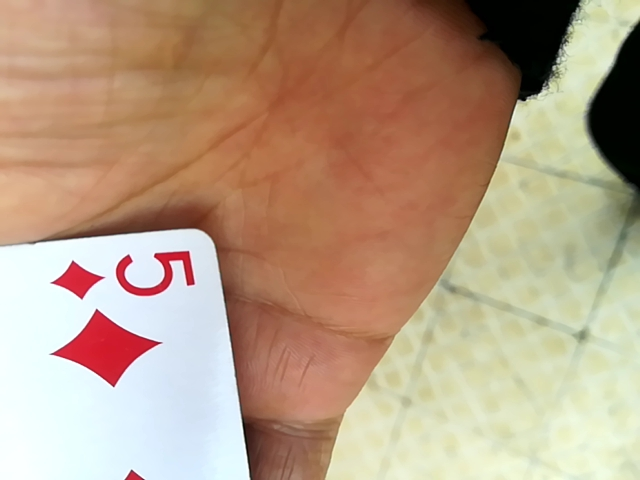fk 5: (0, 233, 273, 480)
